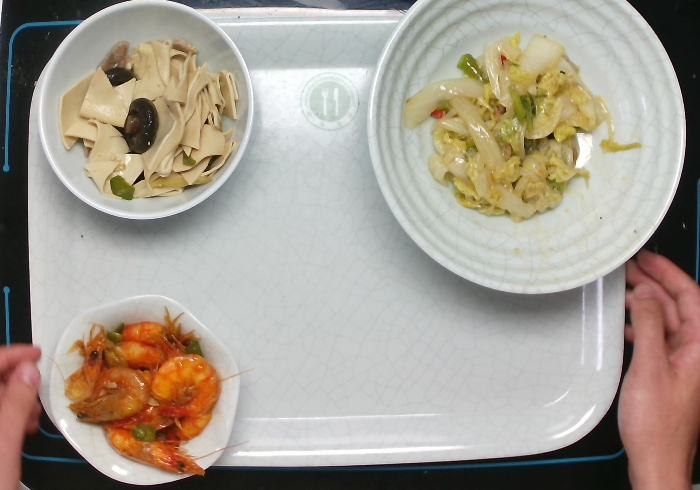JYsf-Da_Tang_Wan: (362, 1, 690, 299)
JYsf-Fan_Wan: (37, 1, 257, 223)
WCQzf-Hua_Duo_Wan: (40, 294, 242, 490)
